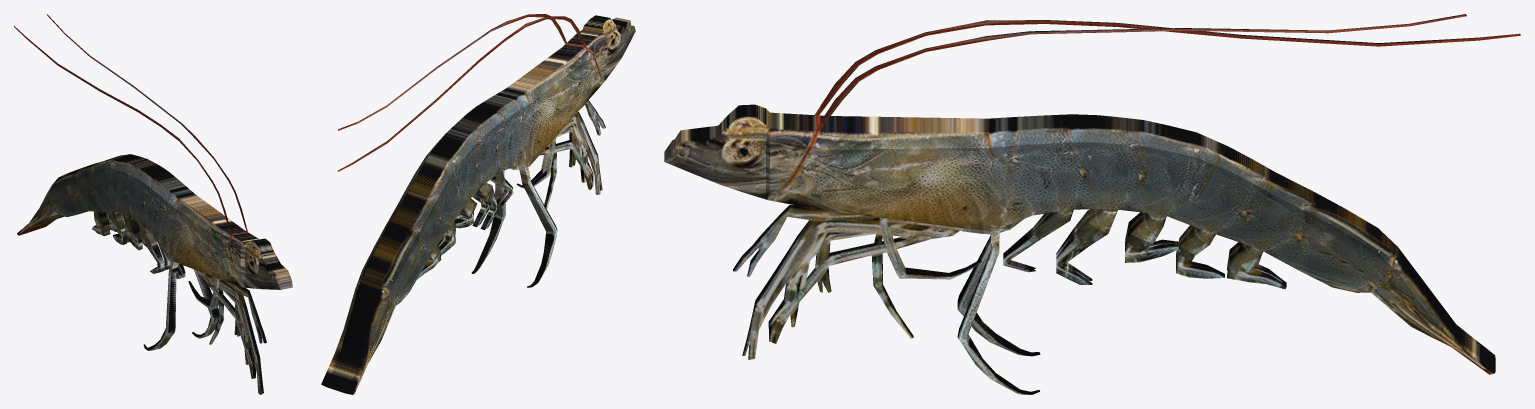
File: AR_Species_Shrimp.fbx
3 renders of one model, left to right at view 1: azimuth 30°, elevation 25°; view 2: azimuth 150°, elevation 25°; view 3: azimuth 270°, elevation 25°, orthographic. The views are drawn at different scales.
Parts seen in each view (by area): view 1: Shrimp Body.002; view 2: Shrimp Body.002; view 3: Shrimp Body.002.
Part boxes in pixels (left/top/right/bottom): Shrimp Body.002: left=14, top=14, right=292, bottom=394; Shrimp Body.002: left=321, top=14, right=635, bottom=394; Shrimp Body.002: left=664, top=14, right=1520, bottom=394.
Size of the model in its own units: 53.83 by 213 by 447.
1 material, 1 textured.
